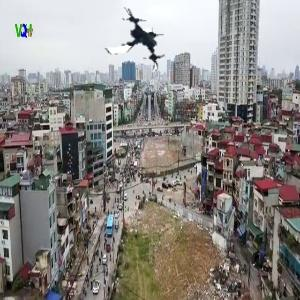drone: (96, 3, 171, 78)
